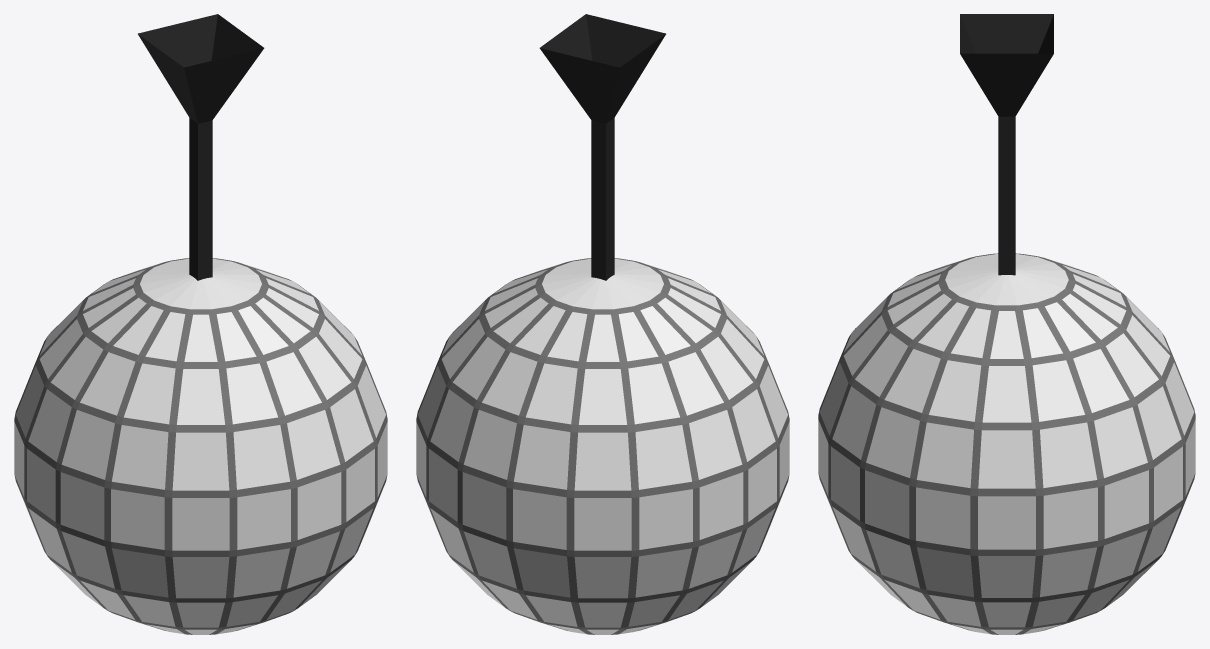
File: Discoball.fbx
3 views of the same model, side by side, from view 1: azimuth 30°, elevation 25°; view 2: azimuth 150°, elevation 25°; view 3: azimuth 270°, elevation 25° (orthographic).
Parts seen in each view (by area): view 1: Disco; view 2: Disco; view 3: Disco.
Boxes of the visible parts, box(x1,y1,x2,y2) form: Disco: box(14, 14, 387, 634); Disco: box(416, 14, 789, 634); Disco: box(818, 14, 1195, 634).
Bounding box in the file's own units: 194 × 335 × 196.
